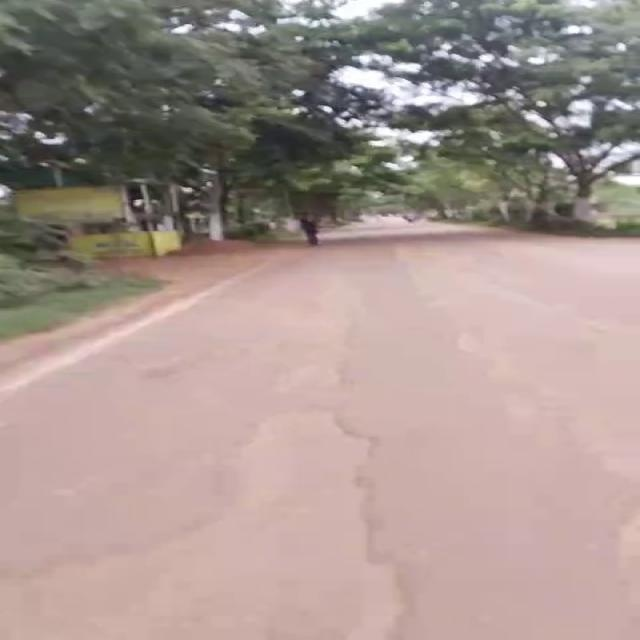pothole: (54, 403, 427, 640), (255, 356, 379, 396)
